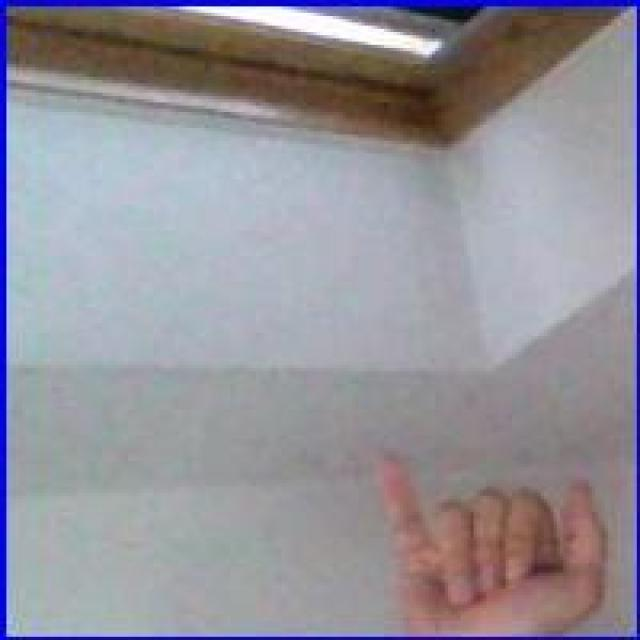Y: (372, 442, 614, 634)
